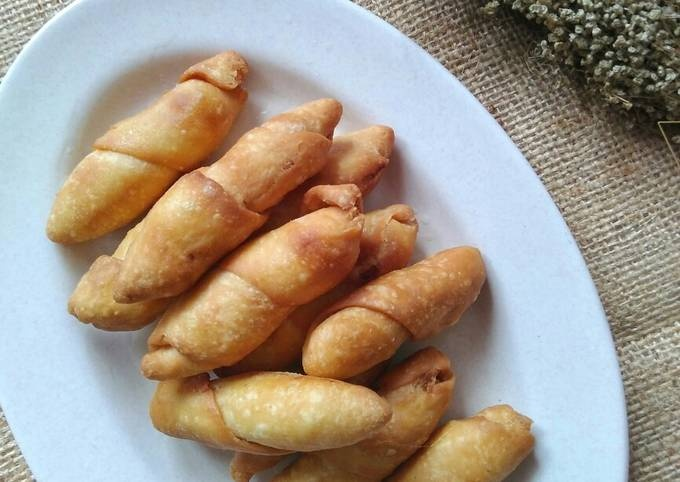pisang_molen: (113, 96, 345, 306), (138, 207, 369, 382), (46, 51, 249, 243), (304, 246, 486, 375), (149, 377, 393, 453)
